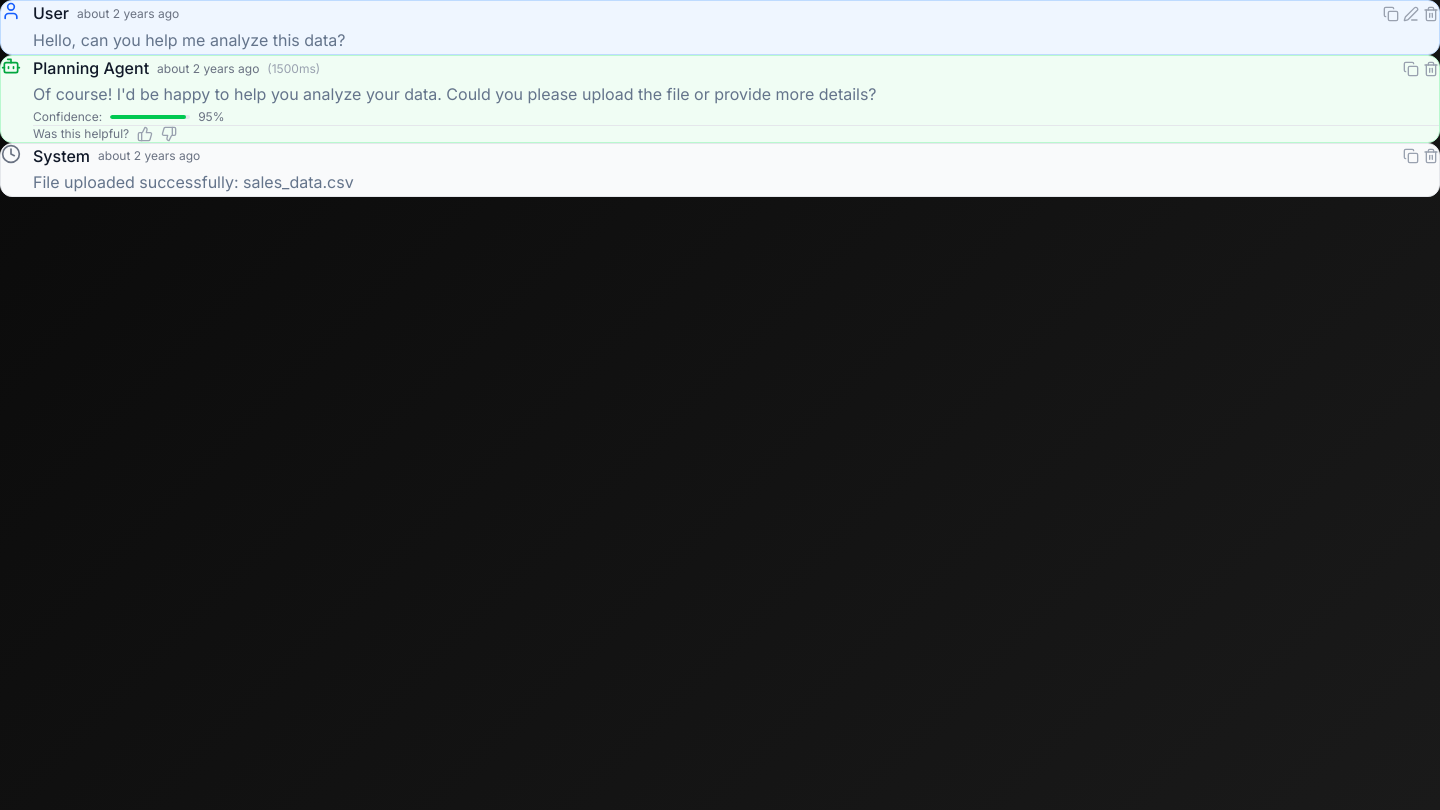
ConversationHistory Component › shows edit functionality for user messages
Click the button titled "Edit message" at {"x": 1411, "y": 14}, box top-left (1403, 6), bottom-right (1419, 22)
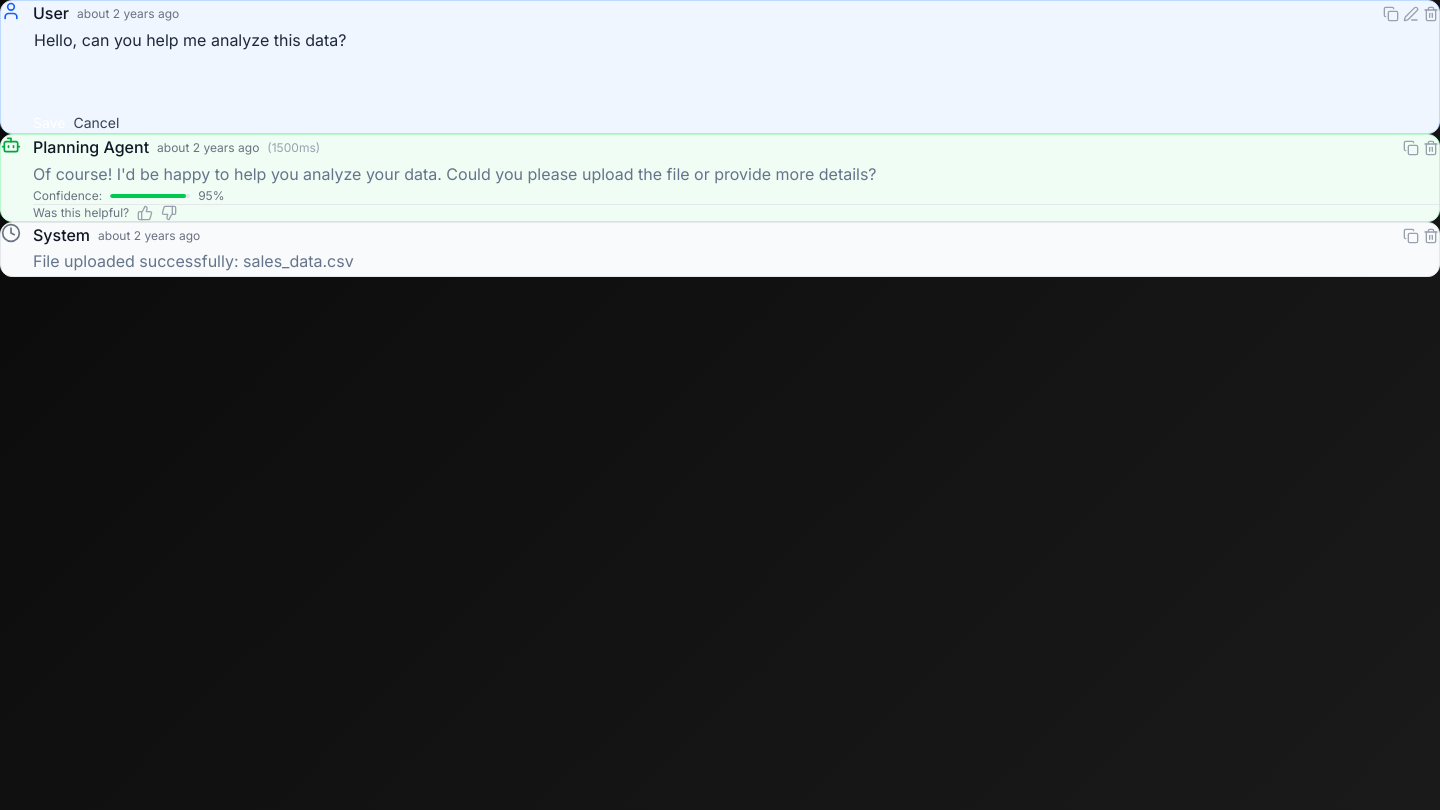
Now the text box is shown, box top-left (33, 27), bottom-right (1439, 105)
Now the button "Save" is shown, box top-left (33, 113), bottom-right (65, 133)
Now the button "Cancel" is shown, box top-left (73, 113), bottom-right (119, 133)
